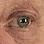eye: (19, 17, 28, 26)
